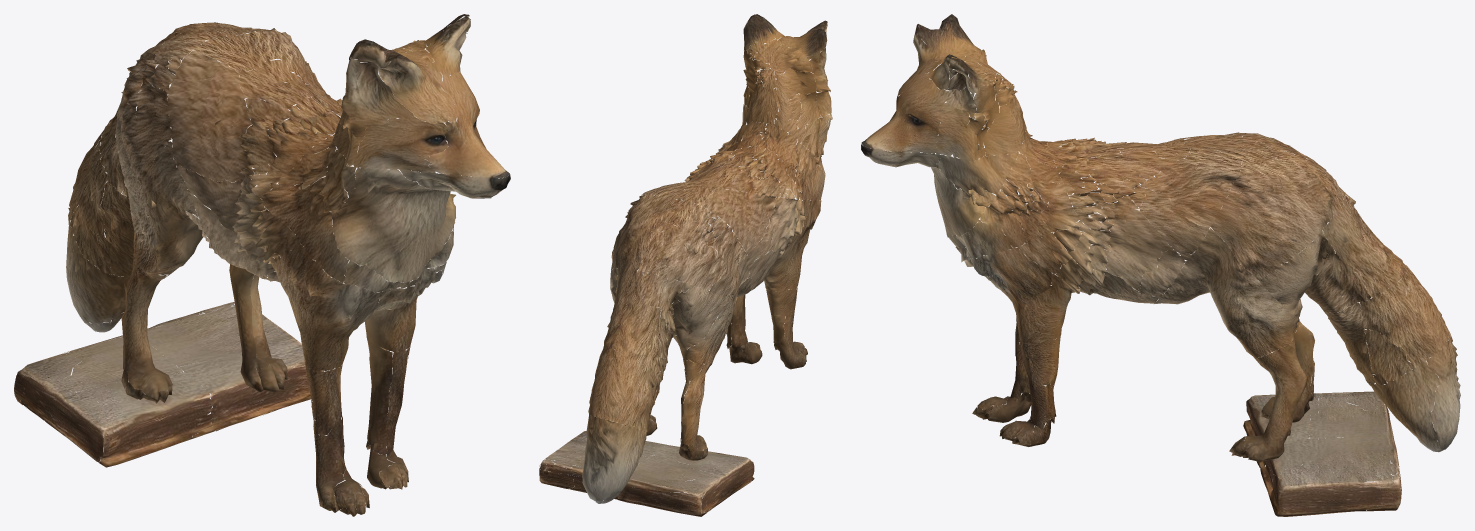
The model's file is fox_prop.glb.
The picture shows the model from 3 angles, left to right: view 1: azimuth 30°, elevation 25°; view 2: azimuth 150°, elevation 25°; view 3: azimuth 270°, elevation 25°; orthographic projection. The views are drawn at different scales.
Parts seen in each view (by area): view 1: prop_fox; view 2: prop_fox; view 3: prop_fox.
Boxes of the visible parts, x1=… form: prop_fox: x1=14, y1=14, x2=510, y2=516; prop_fox: x1=539, y1=14, x2=832, y2=516; prop_fox: x1=861, y1=14, x2=1460, y2=516.
Bounding box in the file's own units: 0.3758 × 0.7877 × 0.9796.
Materials: 1 (1 with a texture image).
